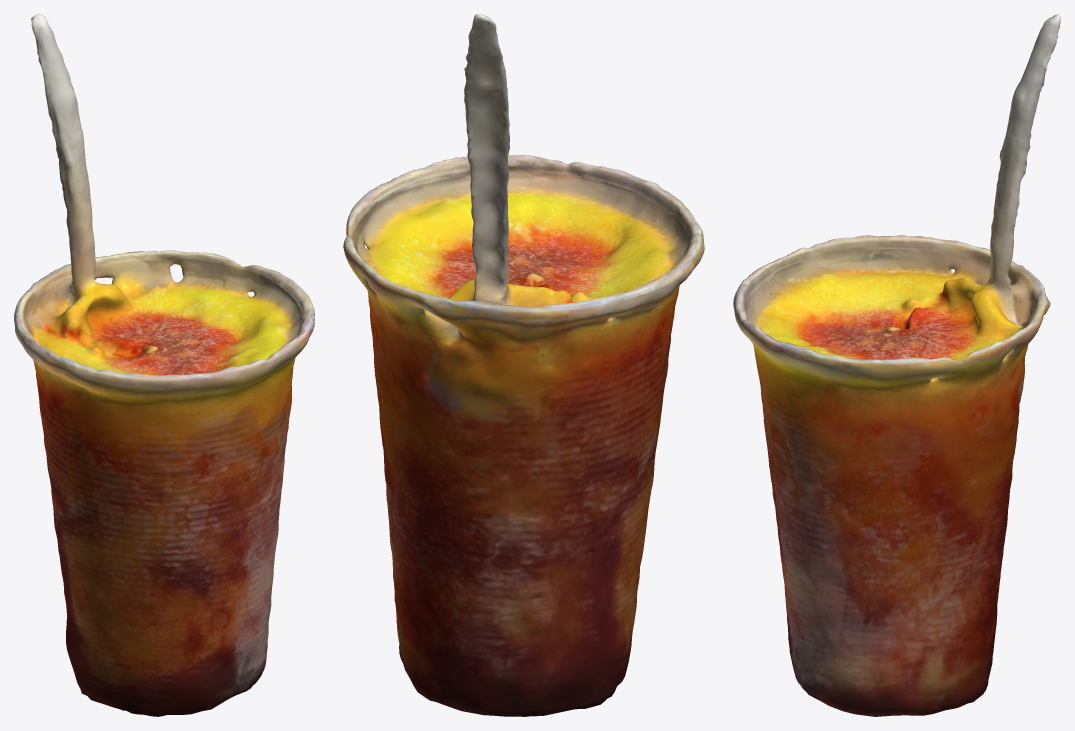
File: Chamoyada.glb
3 renders of one model, left to right at view 1: azimuth 30°, elevation 25°; view 2: azimuth 150°, elevation 25°; view 3: azimuth 270°, elevation 25°, orthographic. The views are drawn at different scales.
Parts seen in each view (by area): view 1: ObjectCapture.002; view 2: ObjectCapture.002; view 3: ObjectCapture.002.
Part boxes in pixels (bbox=[...]): ObjectCapture.002: bbox=[14, 14, 314, 716]; ObjectCapture.002: bbox=[343, 14, 704, 716]; ObjectCapture.002: bbox=[733, 14, 1060, 716].
Bounding box in the file's own units: 0.3704 × 0.8485 × 0.3893.
1 material, 1 textured.
